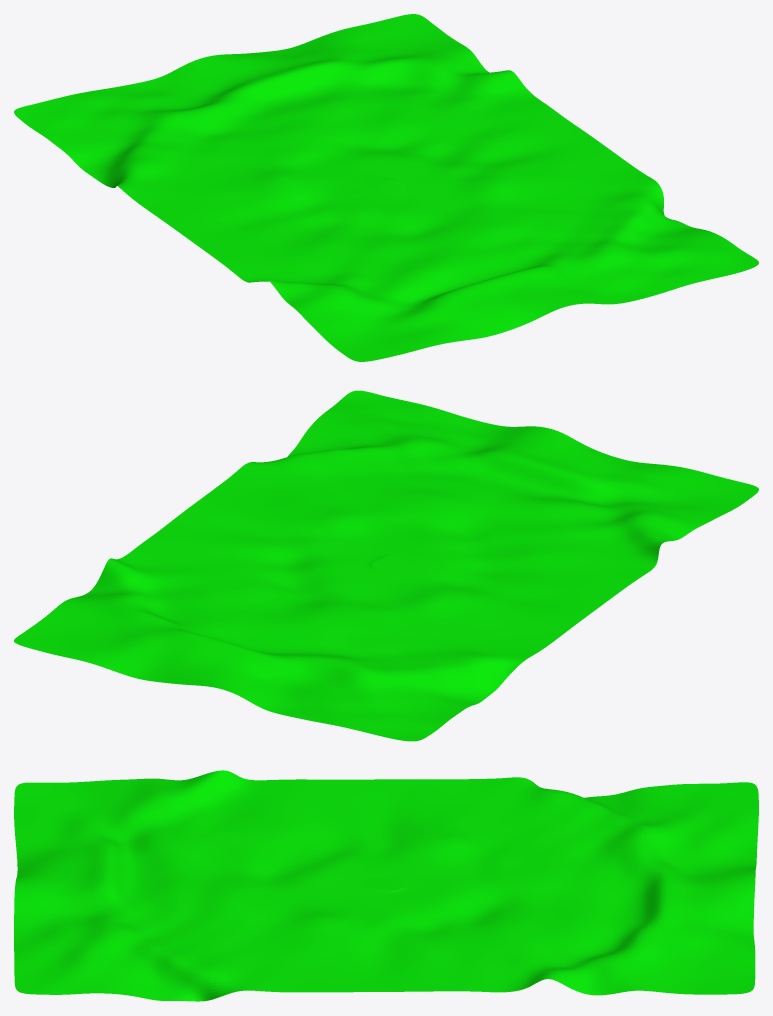
Rendered from paper1.glb.
3 renders of one model, top to bottom at view 1: azimuth 30°, elevation 25°; view 2: azimuth 150°, elevation 25°; view 3: azimuth 270°, elevation 25°, orthographic. The views are drawn at different scales.
Visible parts, largest first — view 1: Plane; view 2: Plane; view 3: Plane.
Boxes of the visible parts, x1=… form: Plane: x1=14, y1=14, x2=758, y2=361; Plane: x1=14, y1=390, x2=758, y2=741; Plane: x1=14, y1=770, x2=758, y2=1001.
Size of the model in its own units: 306 by 18.66 by 451.
Materials: 1 (1 with a texture image).
